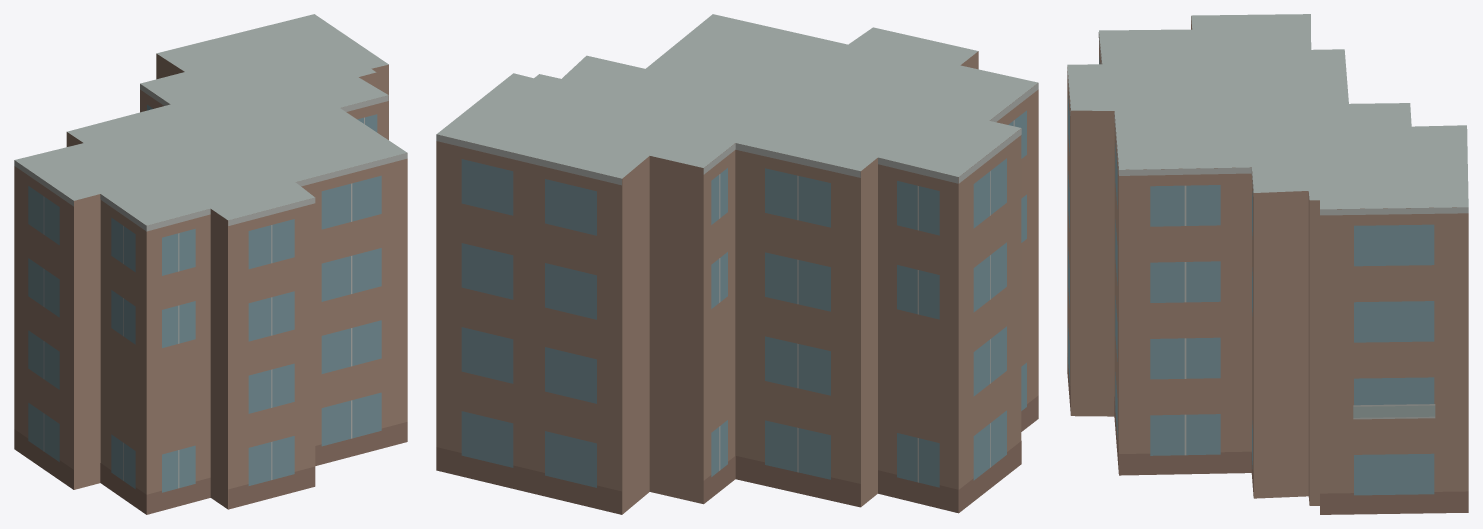
Rendered from survey-upis-32791180.glb.
3 renders of one model, left to right at view 1: azimuth 30°, elevation 25°; view 2: azimuth 150°, elevation 25°; view 3: azimuth 270°, elevation 25°, orthographic. The views are drawn at different scales.
Visible parts, largest first — view 1: survey-upis-32791180.tmp; view 2: survey-upis-32791180.tmp; view 3: survey-upis-32791180.tmp.
Boxes of the visible parts, x1,y1,x2,y2 form: survey-upis-32791180.tmp: (14,14,407,514); survey-upis-32791180.tmp: (436,14,1038,514); survey-upis-32791180.tmp: (1067,14,1468,514).
Size of the model in its own units: 16.74 by 12.2 by 14.54.
